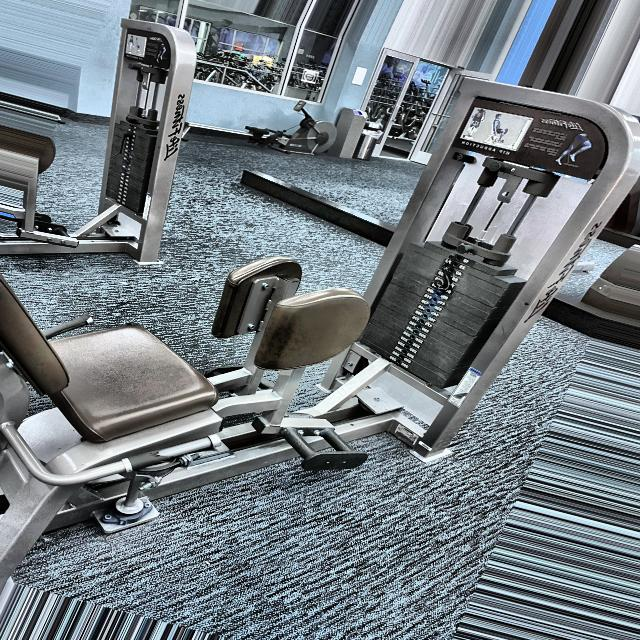hip_adduction_machine: (169, 223, 393, 518), (449, 95, 604, 183), (447, 140, 515, 160)
